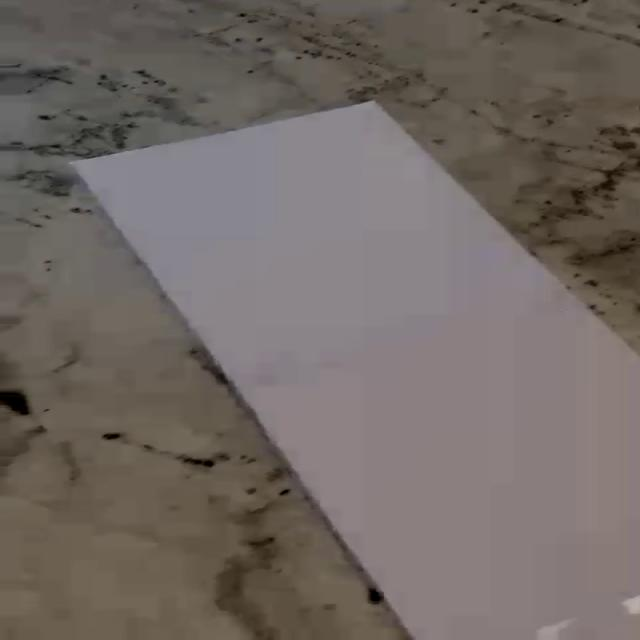road: (63, 100, 640, 640)
